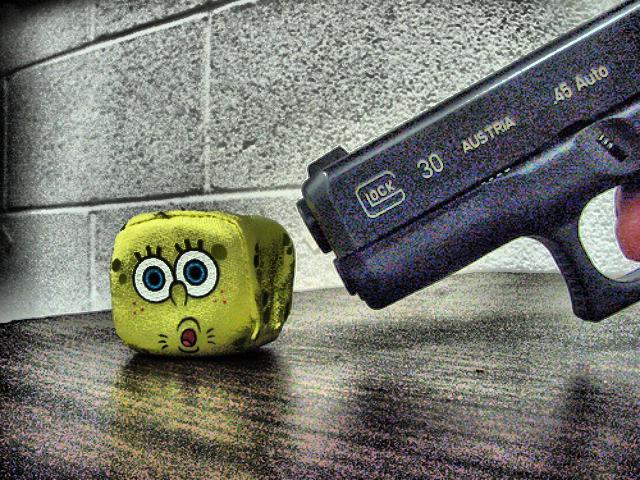pistol: (295, 0, 639, 320)
